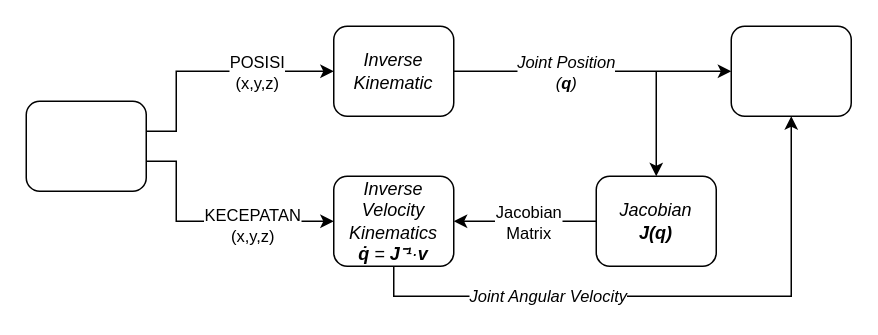
Some shapes in this 878 by 335 pixel diagram are drawn without their labels. The shapes that lost their labels are listed below. From the top down, each one's box as (x1, y1, x2, y2) in pixels, then its label:
(730, 25, 851, 116): Servo/Joint
(25, 100, 146, 191): TRACETORY PLANNER
